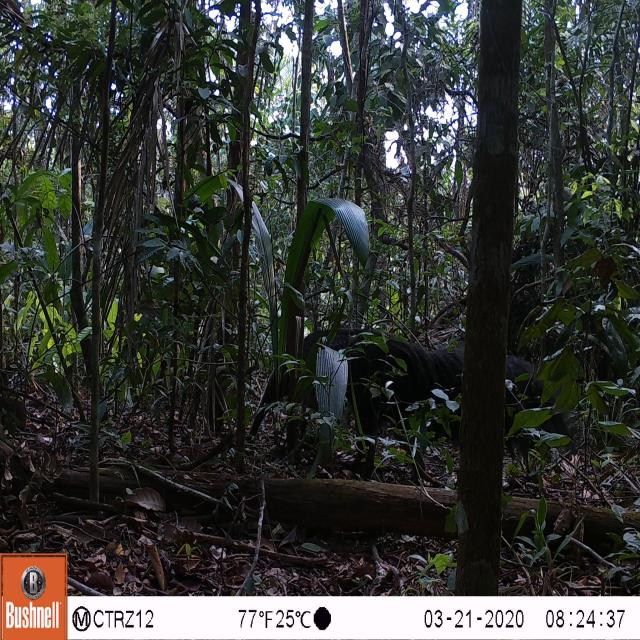Giant Anteater: (239, 308, 560, 477)
